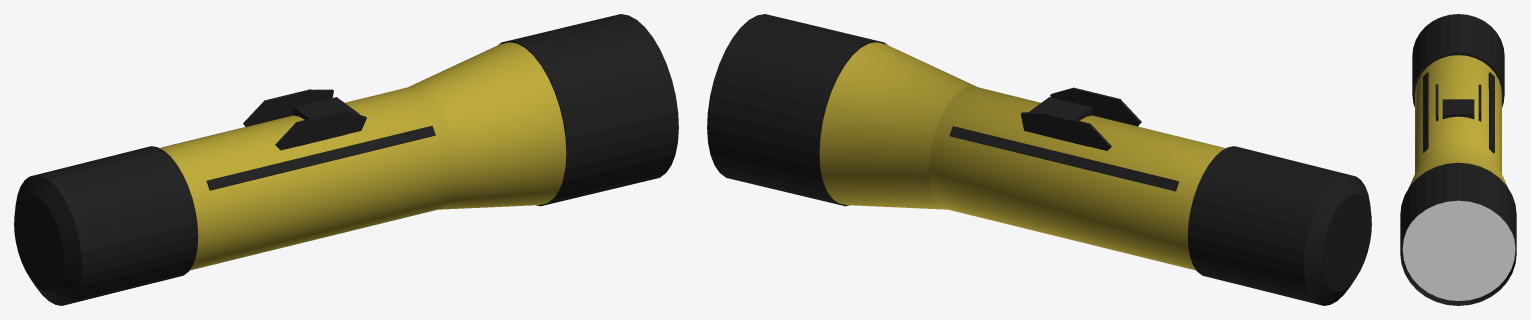
File: flashing light(01).fbx
3 views of the same model, side by side, from view 1: azimuth 30°, elevation 25°; view 2: azimuth 150°, elevation 25°; view 3: azimuth 270°, elevation 25° (orthographic). The views are drawn at different scales.
Visible parts, largest first — view 1: Cylinder, Cylinder.001, Cylinder.002, Cube.001, Cube, Cube.008, Cube.003, Cube.007; view 2: Cylinder, Cylinder.001, Cylinder.002, Cube.002, Cube.003, Cube.008, Cube, Cube.006; view 3: Cylinder.003, Cylinder, Cylinder.002, Cylinder.001, Cube.008, Cube.002, Cube.001.
Part boxes in pixels (left/top/right/bottom): Cylinder: left=160, top=42, right=566, bottom=270; Cylinder.001: left=14, top=146, right=198, bottom=305; Cylinder.002: left=498, top=14, right=678, bottom=206; Cube.001: left=206, top=125, right=435, bottom=190; Cube: left=296, top=110, right=345, bottom=146; Cube.008: left=293, top=97, right=359, bottom=119; Cube.003: left=264, top=89, right=312, bottom=119; Cube.007: left=243, top=101, right=278, bottom=126; Cylinder: left=819, top=42, right=1225, bottom=270; Cylinder.001: left=1187, top=146, right=1371, bottom=305; Cylinder.002: left=707, top=14, right=887, bottom=206; Cube.002: left=949, top=126, right=1178, bottom=191; Cube.003: left=1042, top=112, right=1090, bottom=146; Cube.008: left=1029, top=97, right=1092, bottom=120; Cube: left=1072, top=87, right=1120, bottom=119; Cube.006: left=1106, top=100, right=1141, bottom=126; Cylinder.003: left=1402, top=200, right=1515, bottom=300; Cylinder: left=1408, top=55, right=1508, bottom=188; Cylinder.002: left=1400, top=162, right=1516, bottom=305; Cylinder.001: left=1412, top=14, right=1504, bottom=107; Cube.008: left=1442, top=99, right=1474, bottom=119; Cube.002: left=1488, top=72, right=1494, bottom=153; Cube.001: left=1423, top=72, right=1428, bottom=152.
Size of the model in its own units: 279 by 68.68 by 68.42.
Materials: 13 (13 with a texture image).
